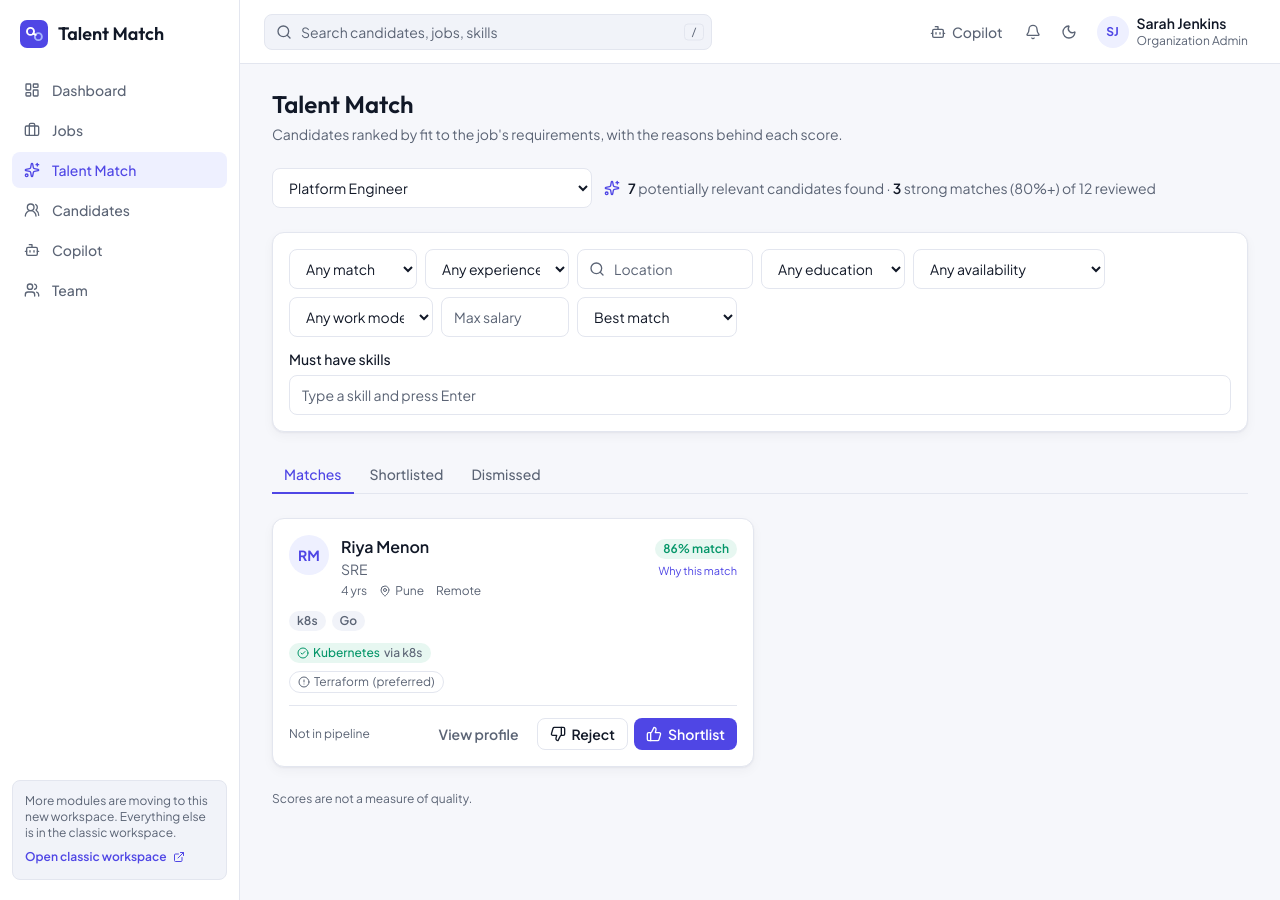
Test: Talent Match › shows discovery summary, skill evidence and the factor breakdown
Expected: the text "potentially relevant candidates found" shows "7 potentially relevant candidates found", 628,178 -> 1156,198
Expected: the element named "Matching skills" shows "Kubernetes", 313,645 -> 380,660
Click the button with aria-label "Why Riya Menon matches" at (696, 557), box 655,535 -> 737,580
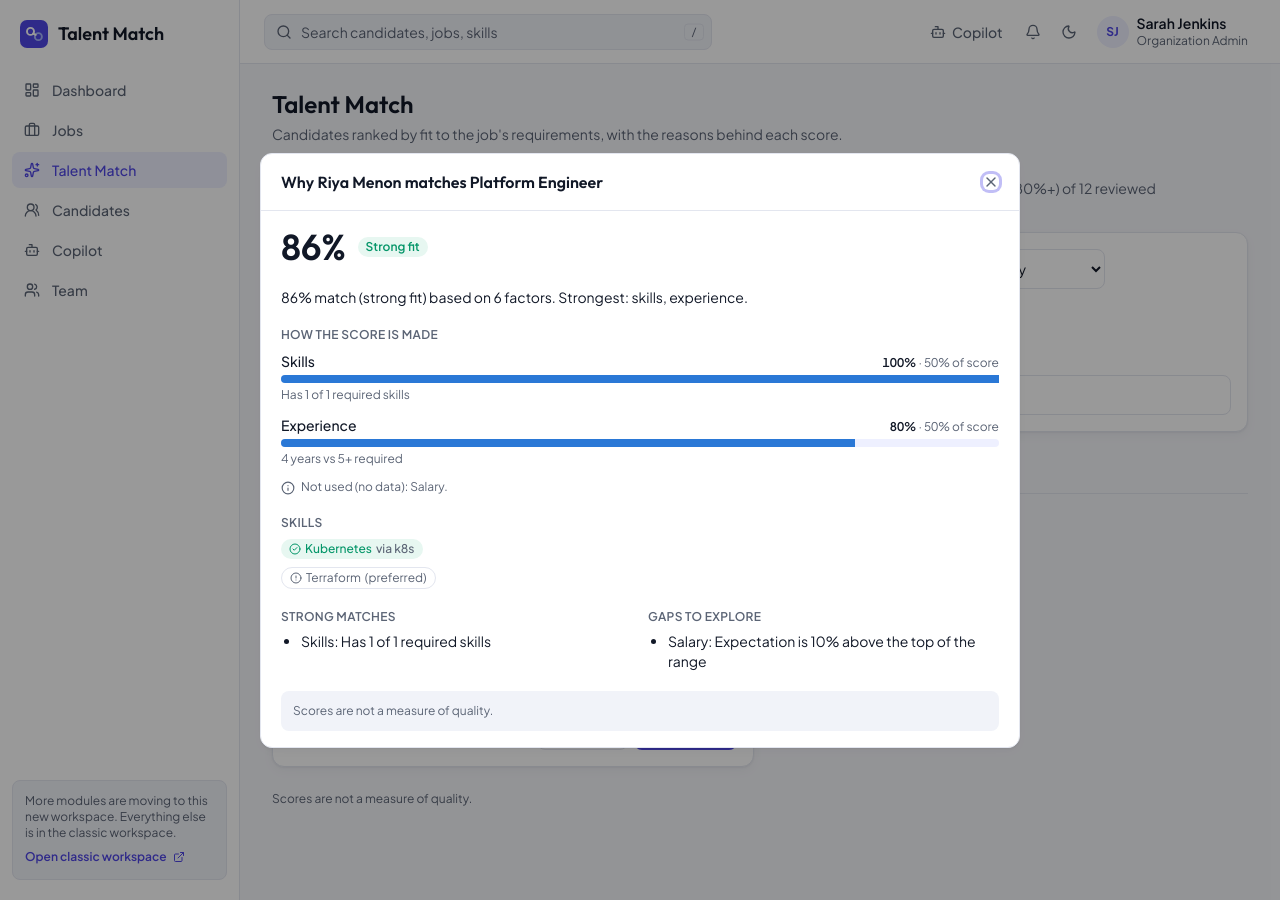
Now the text "86%" is shown, box 281,226 -> 346,266
Now the text "4 years vs 5+ required" is shown, box 281,450 -> 403,466
Now the text "Not used (no data): Salary." is shown, box 281,478 -> 448,494
